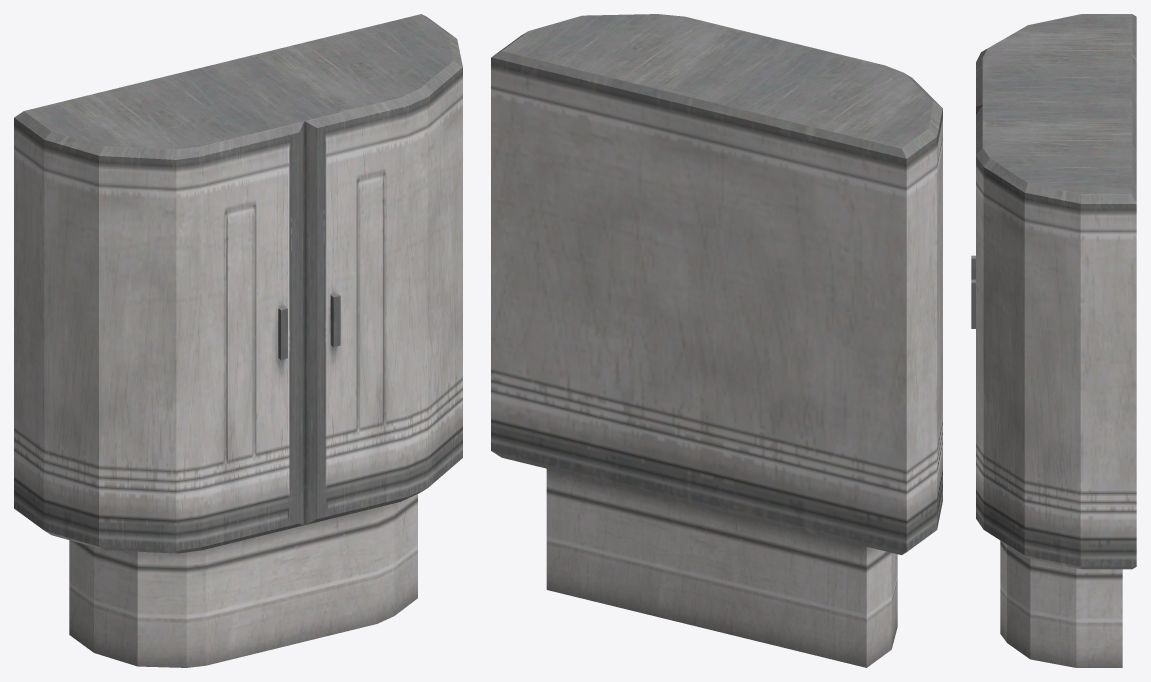
The model's file is frn_all_mdrn_armoire_s01_l0.fbx.
The picture shows the model from 3 angles, left to right: view 1: azimuth 30°, elevation 25°; view 2: azimuth 150°, elevation 25°; view 3: azimuth 270°, elevation 25°; orthographic projection. The views are drawn at different scales.
Parts seen in each view (by area): view 1: mesh_node; view 2: mesh_node; view 3: mesh_node.
Part boxes in pixels (x1,y1,x2,y2): mesh_node: (14,14,462,667); mesh_node: (491,14,942,667); mesh_node: (971,14,1136,667).
Size of the model in its own units: 1.8 by 2.21 by 0.6741.
